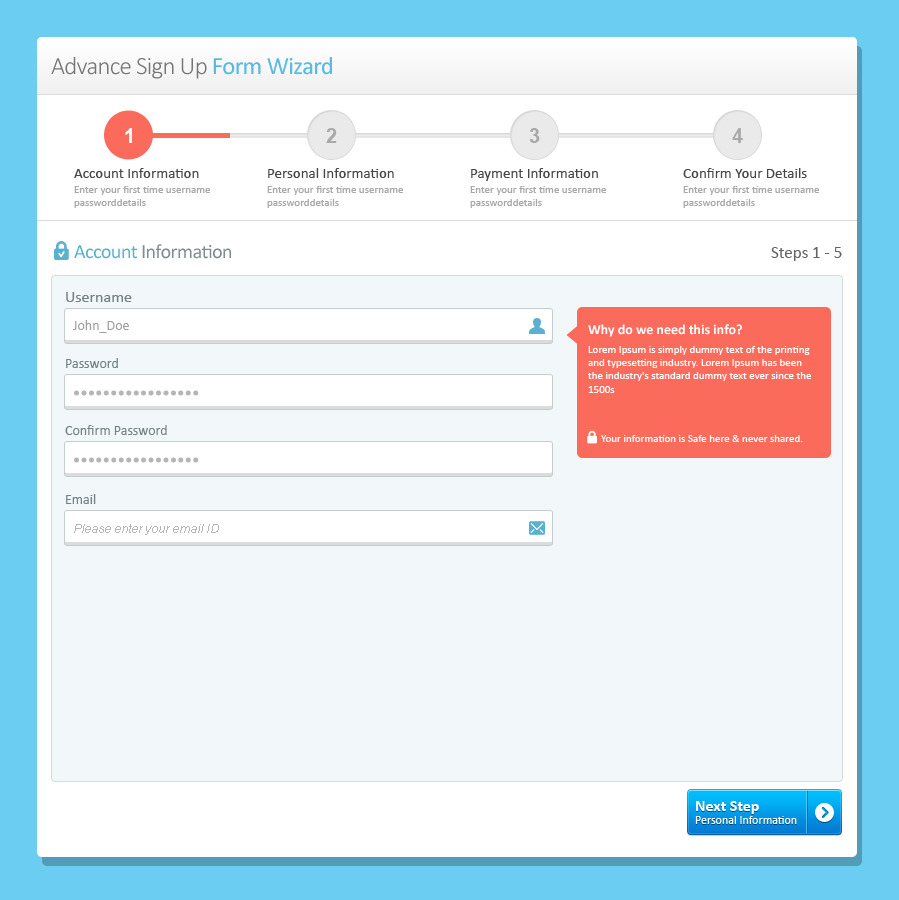_form_: (46, 274, 571, 555), (657, 764, 858, 858)
button: (686, 788, 843, 837)
field: (62, 439, 553, 478), (59, 508, 554, 546), (63, 373, 554, 411), (62, 307, 555, 344)
field_with_label: (60, 290, 558, 348), (59, 357, 556, 413), (55, 494, 556, 549), (57, 426, 557, 481)
